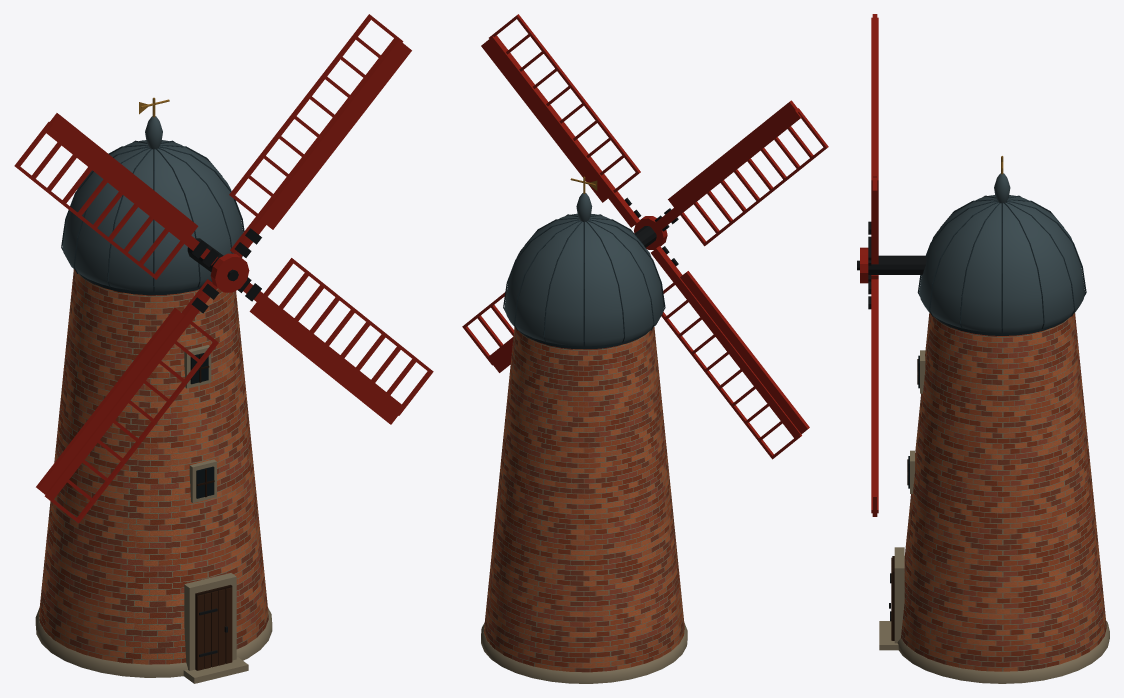
File: windmill.obj
3 renders of one model, left to right at view 1: azimuth 30°, elevation 25°; view 2: azimuth 150°, elevation 25°; view 3: azimuth 270°, elevation 25°, orthographic. The views are drawn at different scales.
Parts seen in each view (by area): view 1: Windmill; view 2: Windmill; view 3: Windmill.
Boxes of the visible parts, x1,y1,x2,y2 form: Windmill: [14, 14, 433, 683]; Windmill: [462, 14, 828, 683]; Windmill: [857, 14, 1109, 683].
Size of the model in its own units: 585 by 843 by 338.
10 materials, 1 textured.
